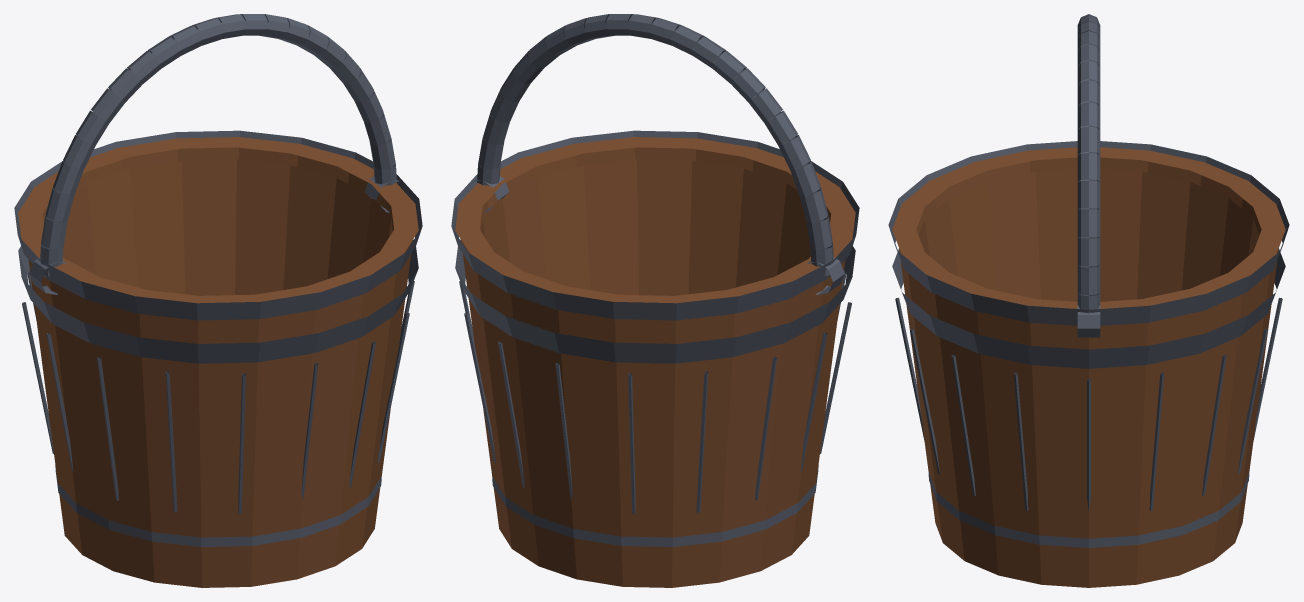
Rendered from pozo_cubeta.obj.
3 views of the same model, side by side, from view 1: azimuth 30°, elevation 25°; view 2: azimuth 150°, elevation 25°; view 3: azimuth 270°, elevation 25° (orthographic). The views are drawn at different scales.
Visible parts, largest first — view 1: Cubeta_Madera_Animada; view 2: Cubeta_Madera_Animada; view 3: Cubeta_Madera_Animada.
Boxes of the visible parts, bbox=[...] form: Cubeta_Madera_Animada: bbox=[14, 14, 422, 587]; Cubeta_Madera_Animada: bbox=[451, 14, 859, 587]; Cubeta_Madera_Animada: bbox=[888, 14, 1289, 587].
Bounding box in the file's own units: 0.326 × 0.428 × 0.316.
Materials: 2 (2 with a texture image).
